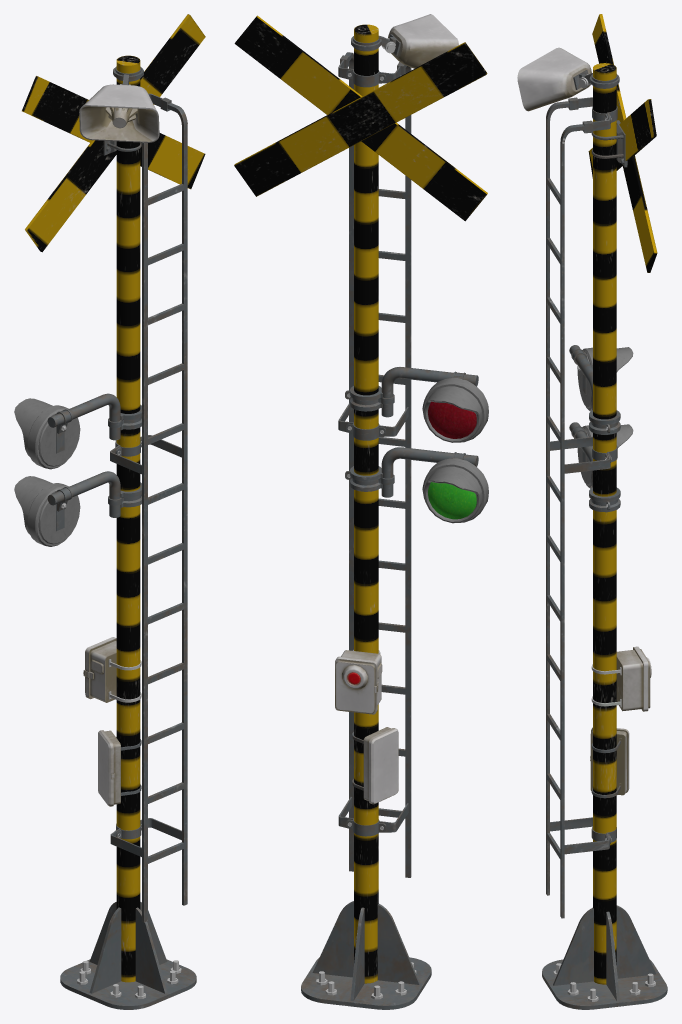
The model's file is Train_Track_Lights_001.obj.
3 renders of one model, left to right at view 1: azimuth 30°, elevation 25°; view 2: azimuth 150°, elevation 25°; view 3: azimuth 270°, elevation 25°, orthographic. The views are drawn at different scales.
Parts seen in each view (by area): view 1: Train_Track_Lights.001; view 2: Train_Track_Lights.001; view 3: Train_Track_Lights.001.
Boxes of the visible parts, x1,y1,x2,y2 form: Train_Track_Lights.001: [14, 14, 205, 1009]; Train_Track_Lights.001: [234, 14, 488, 1009]; Train_Track_Lights.001: [517, 14, 667, 1009].
Bounding box in the file's own units: 1.29 × 5.39 × 0.7924.
1 material, 1 textured.
